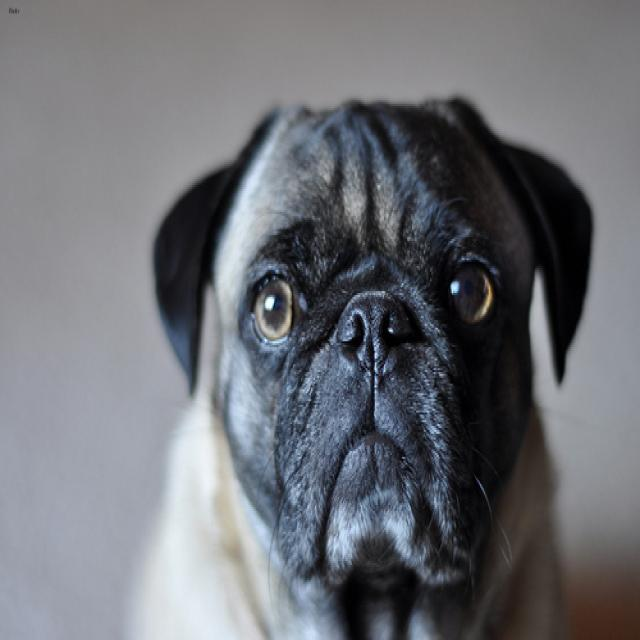dog-pug: (122, 85, 602, 636)
